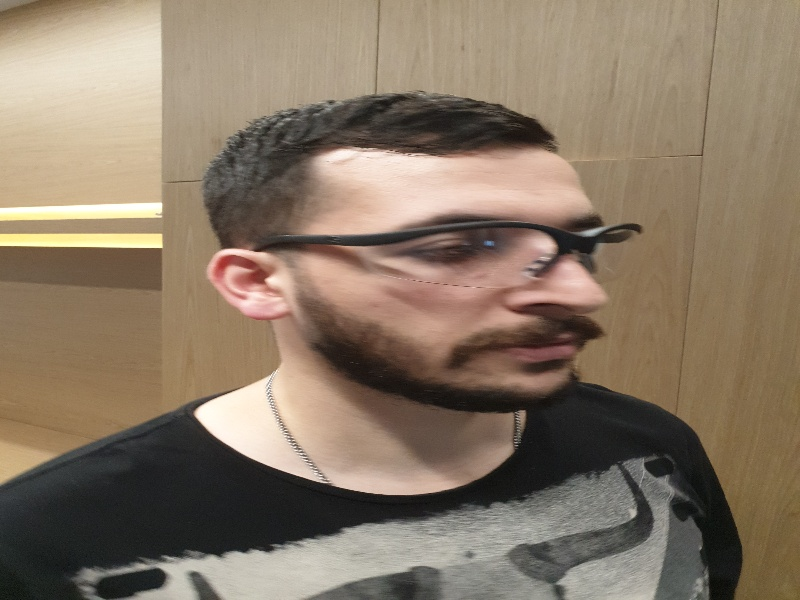Gozluk: (245, 219, 646, 285)
